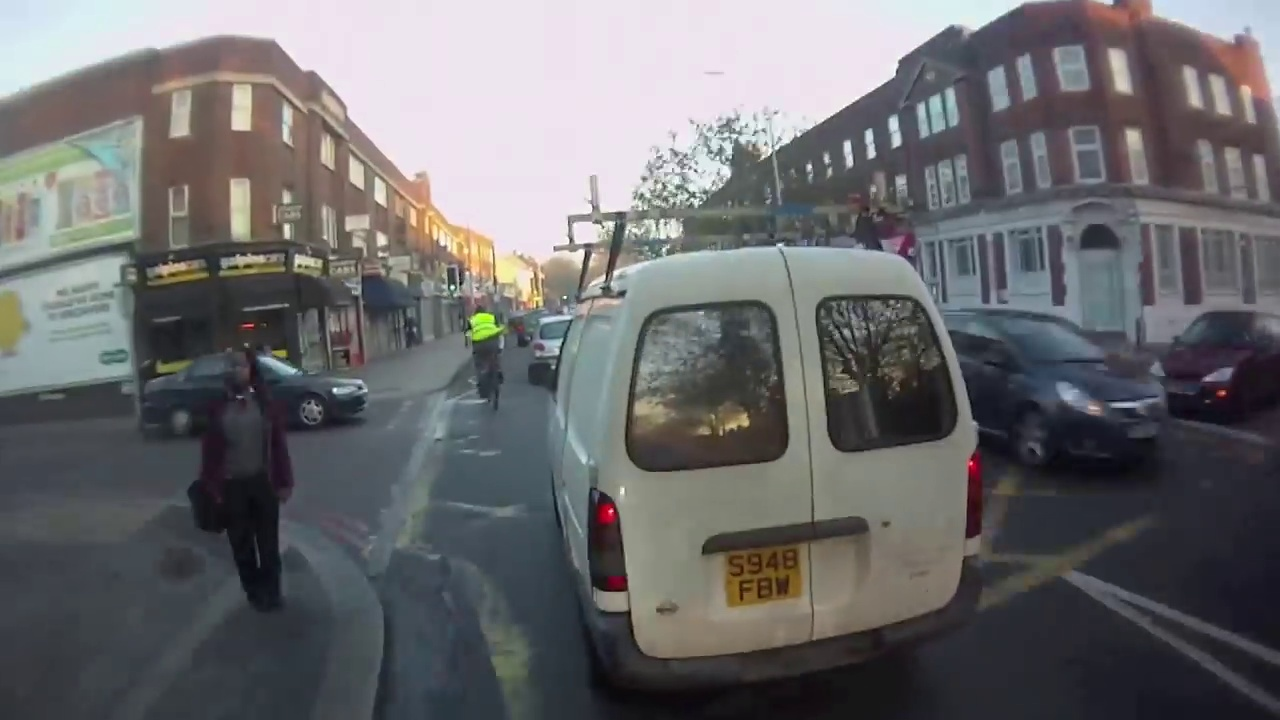cyclist_back: (458, 296, 514, 414)
